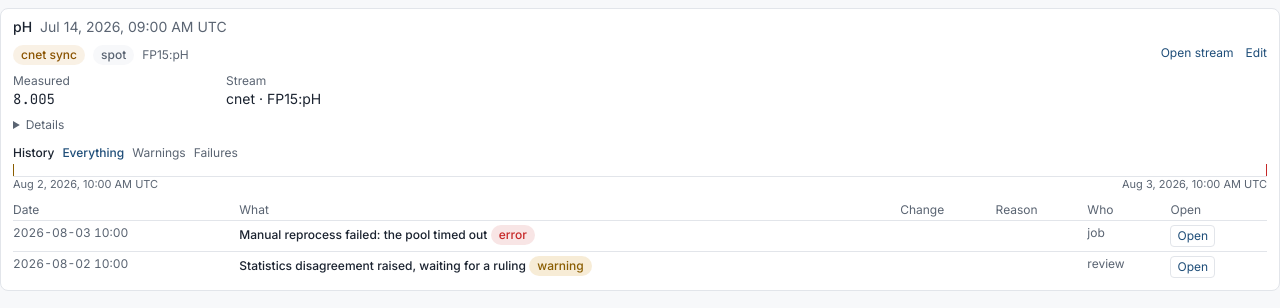
PointInspector › reads one history from every record that holds part of it, filtered by severity
Expected: the text "Manual reprocess failed: the pool timed out" is shown, top-left (239, 227), bottom-right (487, 242)
Expected: the text "Statistics disagreement raised, waiting for a ruling" is shown, top-left (239, 258), bottom-right (526, 273)
Click the button "Failures" at [216, 153], box top-left (194, 145), bottom-right (238, 161)
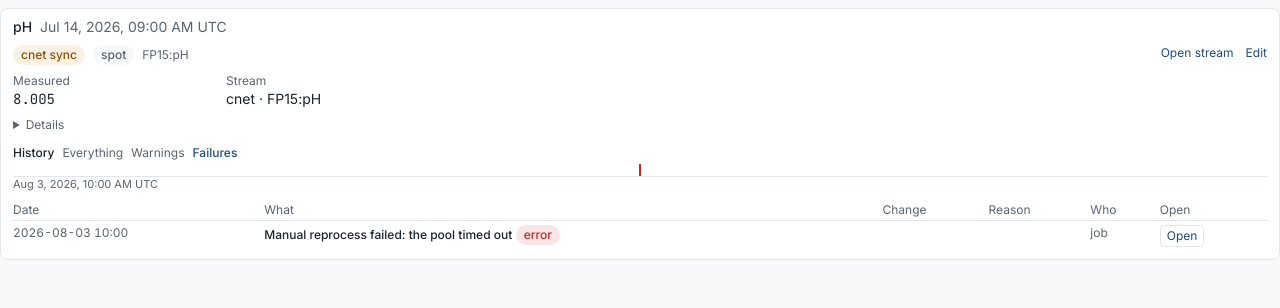
Expected: the text "Manual reprocess failed: the pool timed out" is shown, top-left (264, 227), bottom-right (512, 242)
Now the text "Statistics disagreement raised, waiting for a ruling" is gone
